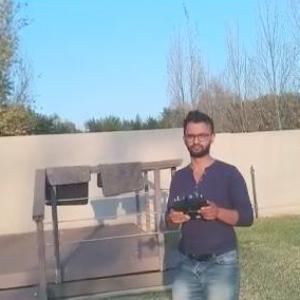follow: (160, 105, 258, 299)
